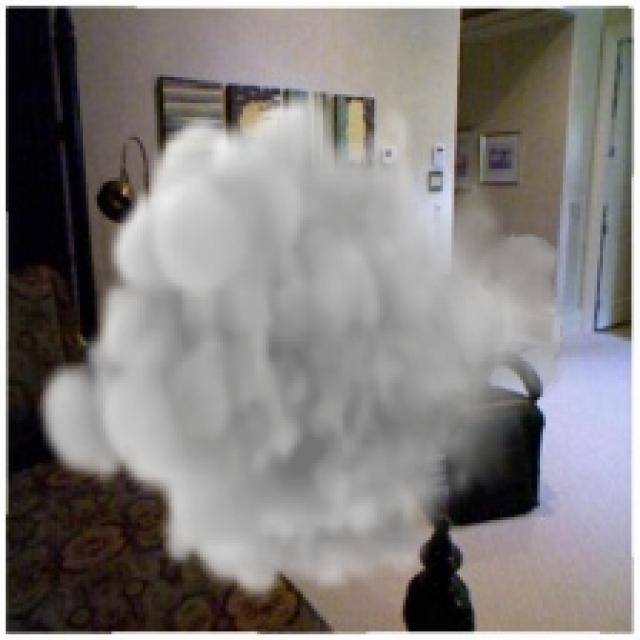smoke: (31, 86, 568, 603)
